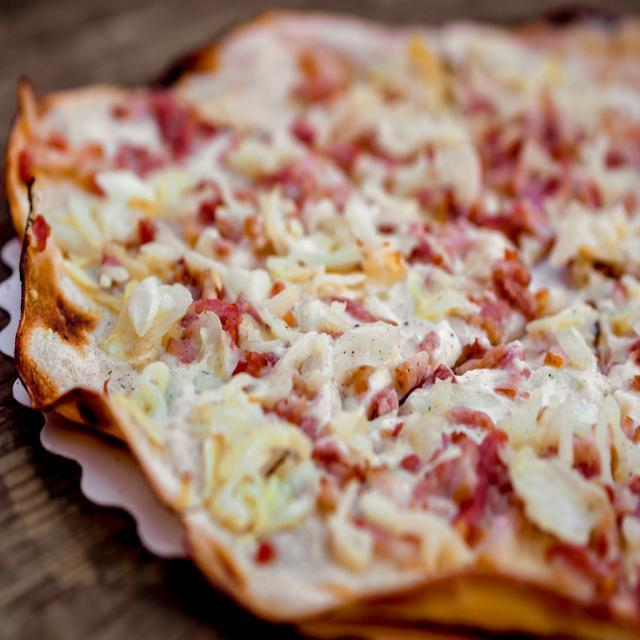Pizza: (7, 8, 640, 637)
